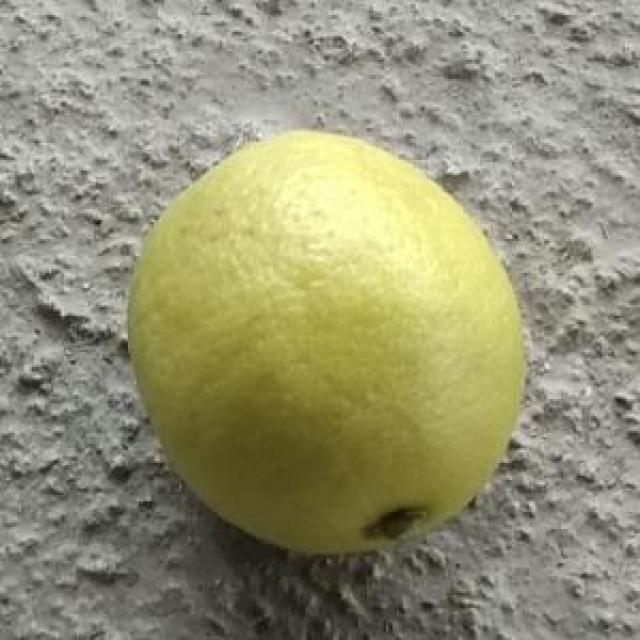lemon: (126, 126, 516, 554)
